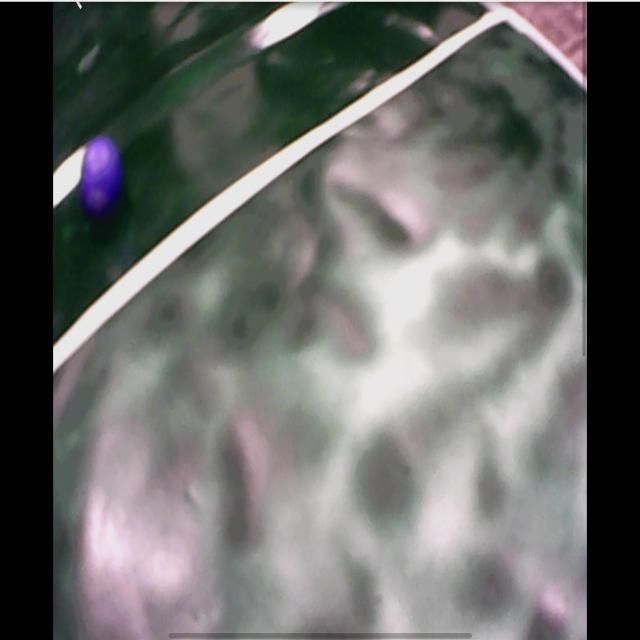ball: (78, 141, 121, 208)
